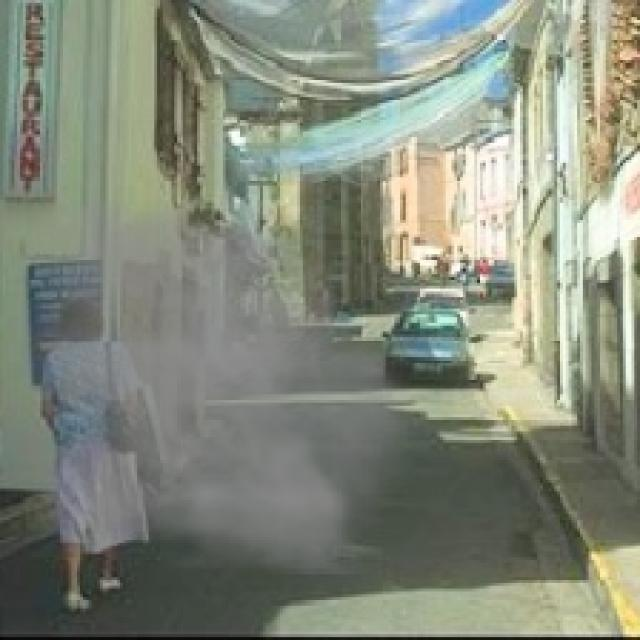Smoke: (26, 200, 428, 574)
